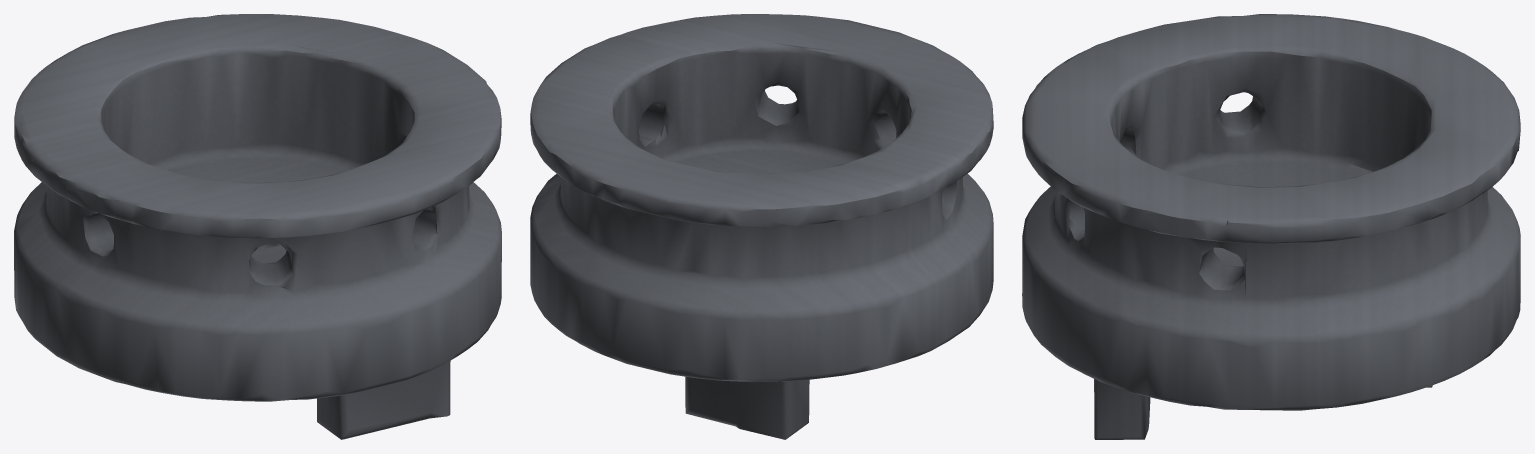
File: right_elbow_outword.obj
The picture shows the model from 3 angles, left to right: view 1: azimuth 30°, elevation 25°; view 2: azimuth 150°, elevation 25°; view 3: azimuth 270°, elevation 25°; orthographic projection. The views are drawn at different scales.
Visible parts, largest first — view 1: right_elbow_outword; view 2: right_elbow_outword; view 3: right_elbow_outword.
Part boxes in pixels (x1,y1,x2,y2): right_elbow_outword: (14,14,501,439); right_elbow_outword: (530,14,993,439); right_elbow_outword: (1022,14,1520,439).
Size of the model in its own units: 0.0383 by 0.023 by 0.0383.
Materials: 1 (1 with a texture image).
